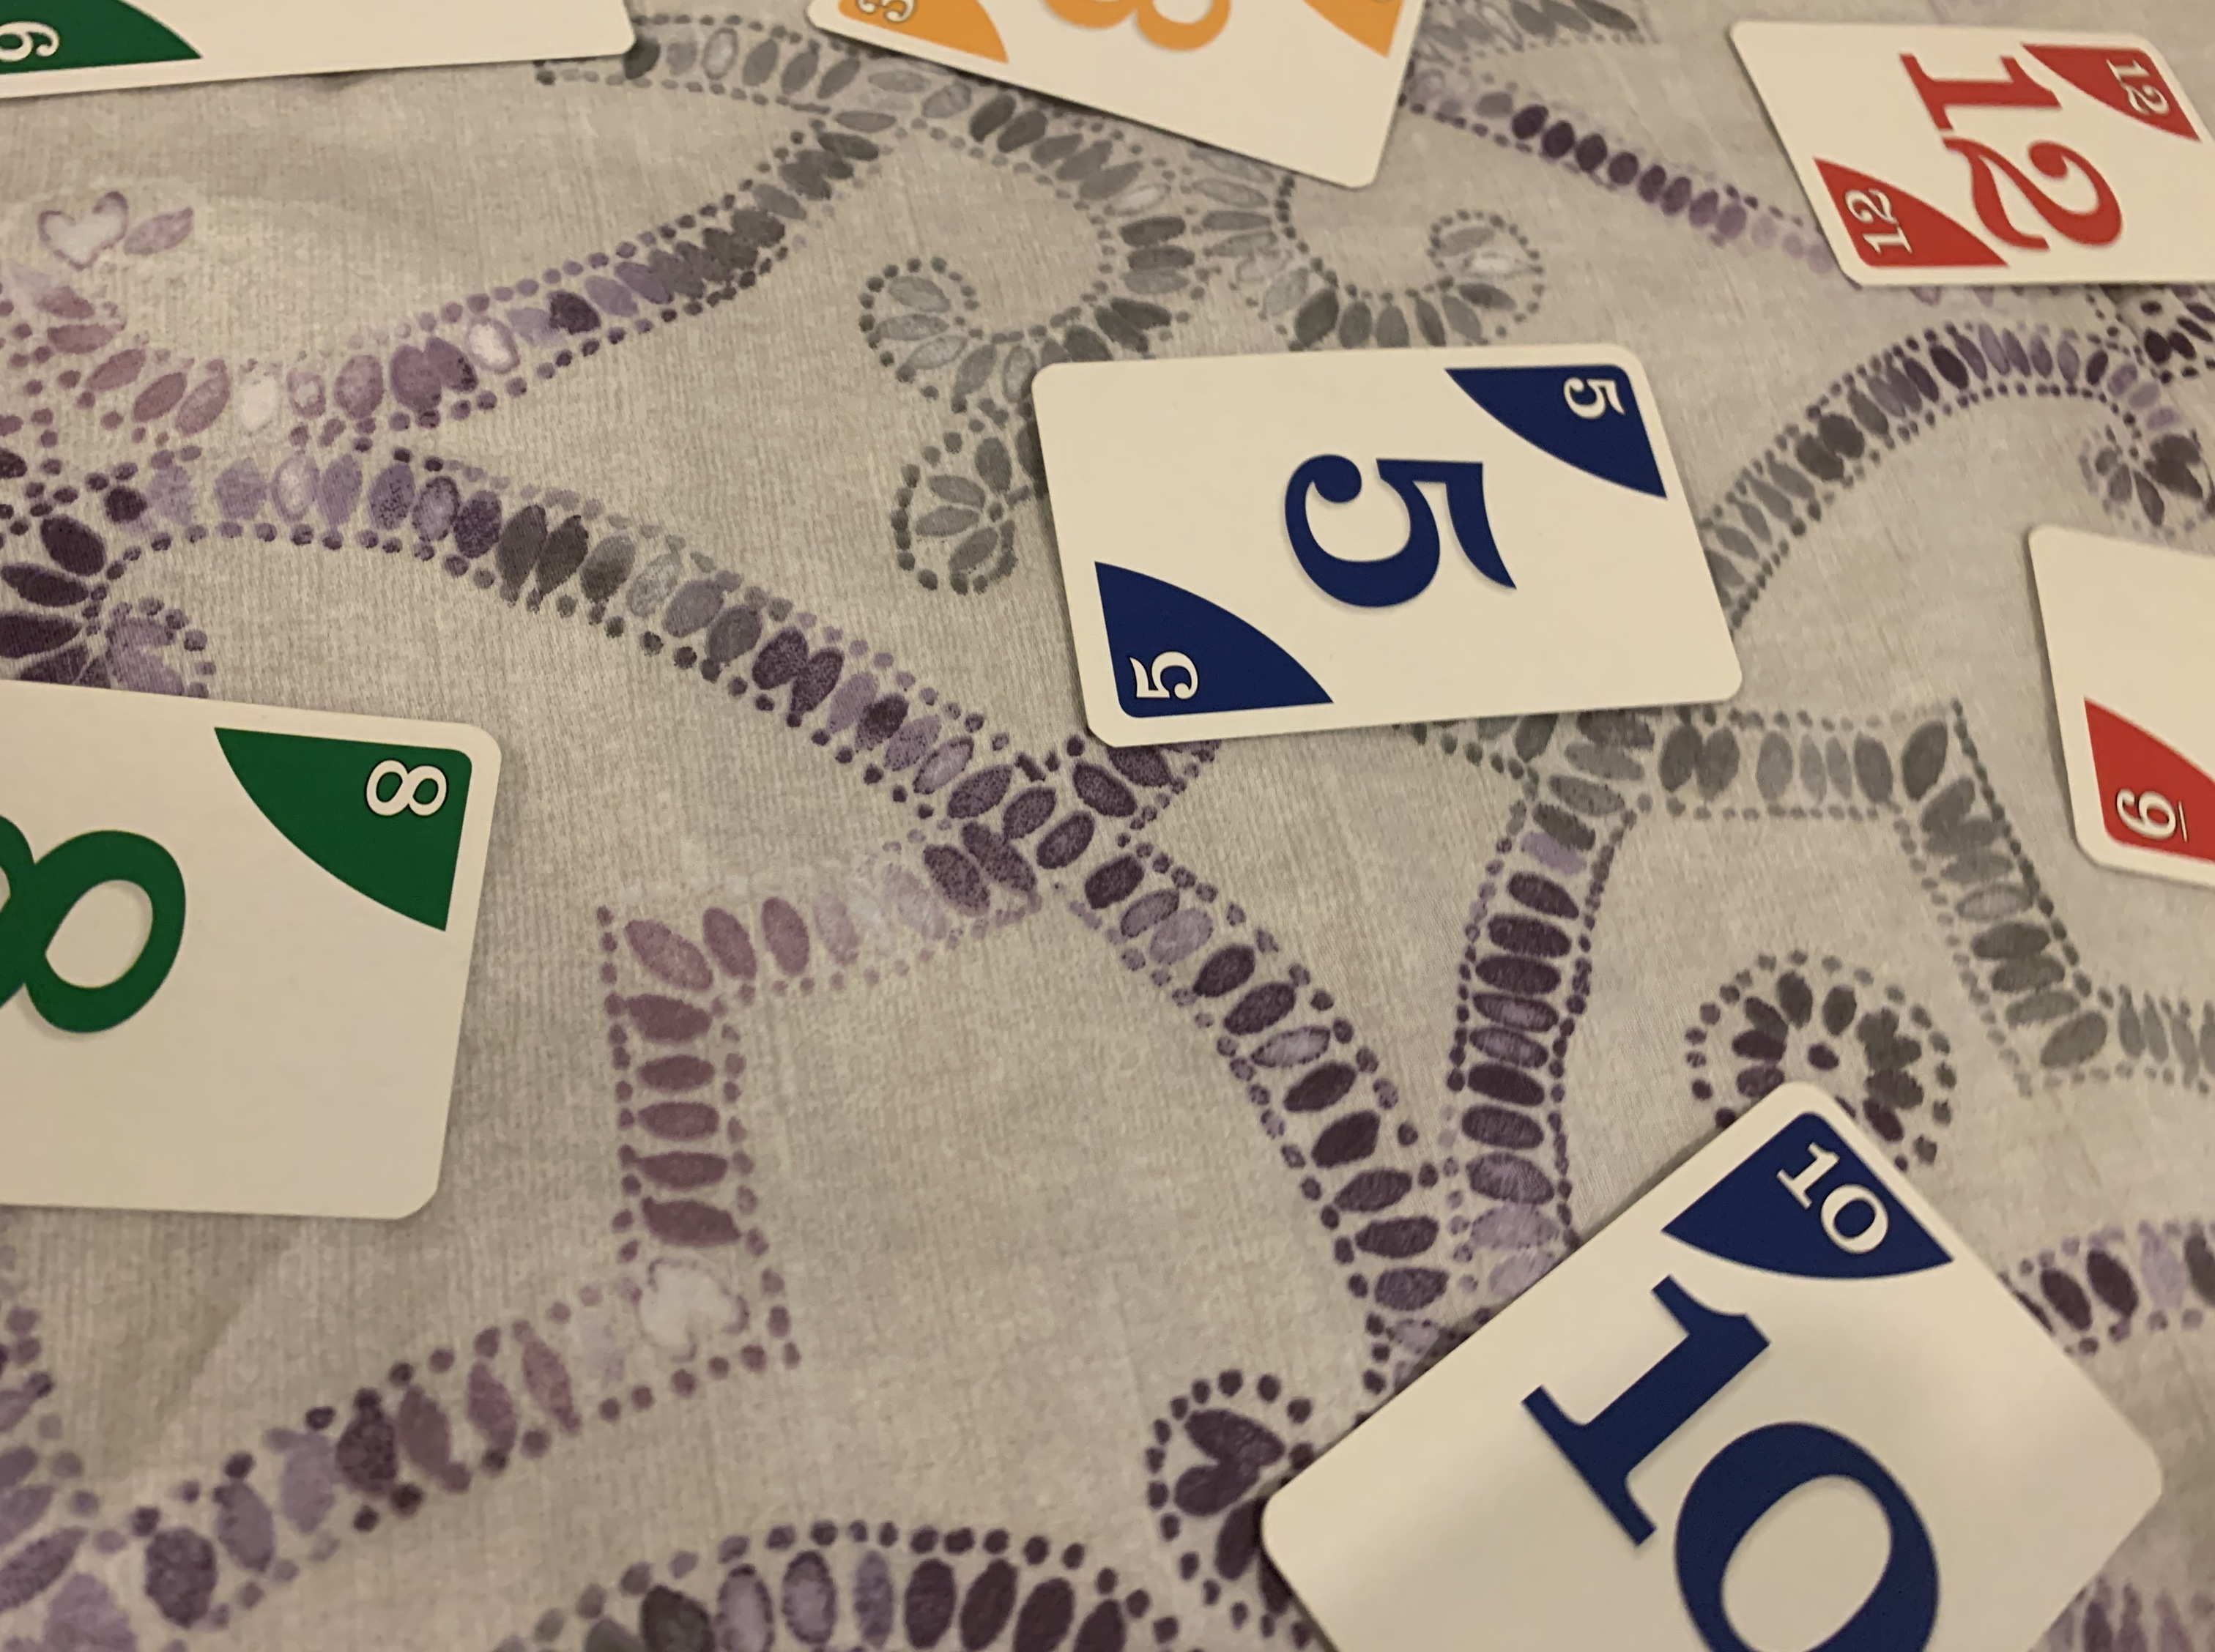eight: (0, 670, 510, 1220)
five: (1021, 335, 1755, 755)
ten: (1252, 1074, 2175, 1652)
